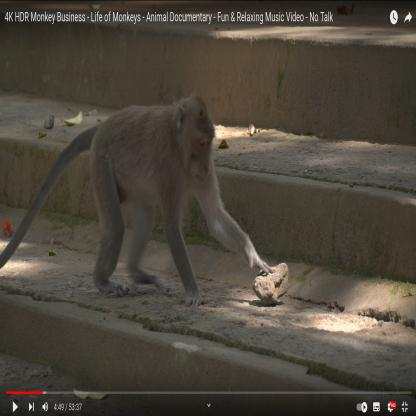monkey: (44, 93, 279, 310)
